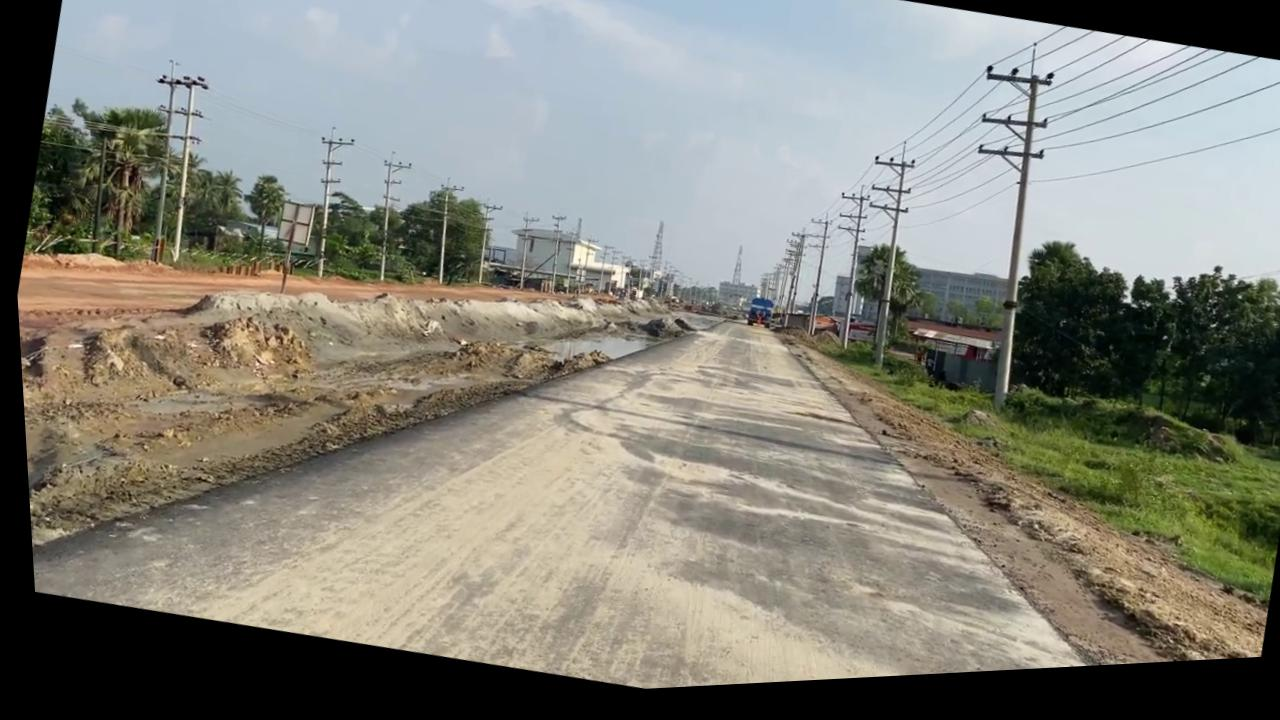Obstacle: (259, 199, 317, 300)
Pole: (913, 48, 1077, 425), (827, 145, 926, 381), (804, 189, 877, 361), (289, 126, 360, 285), (355, 152, 415, 287), (415, 180, 466, 291)
Rickshaw: (9, 151, 1280, 720)
Traffic-sign: (830, 244, 932, 381)
Tree: (738, 302, 771, 337)
